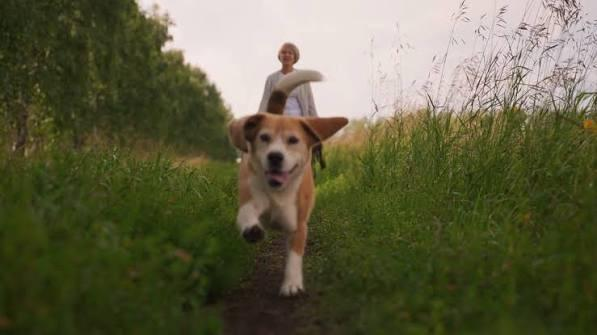adult_dog: (228, 70, 349, 297)
non-dog: (257, 41, 319, 118)
